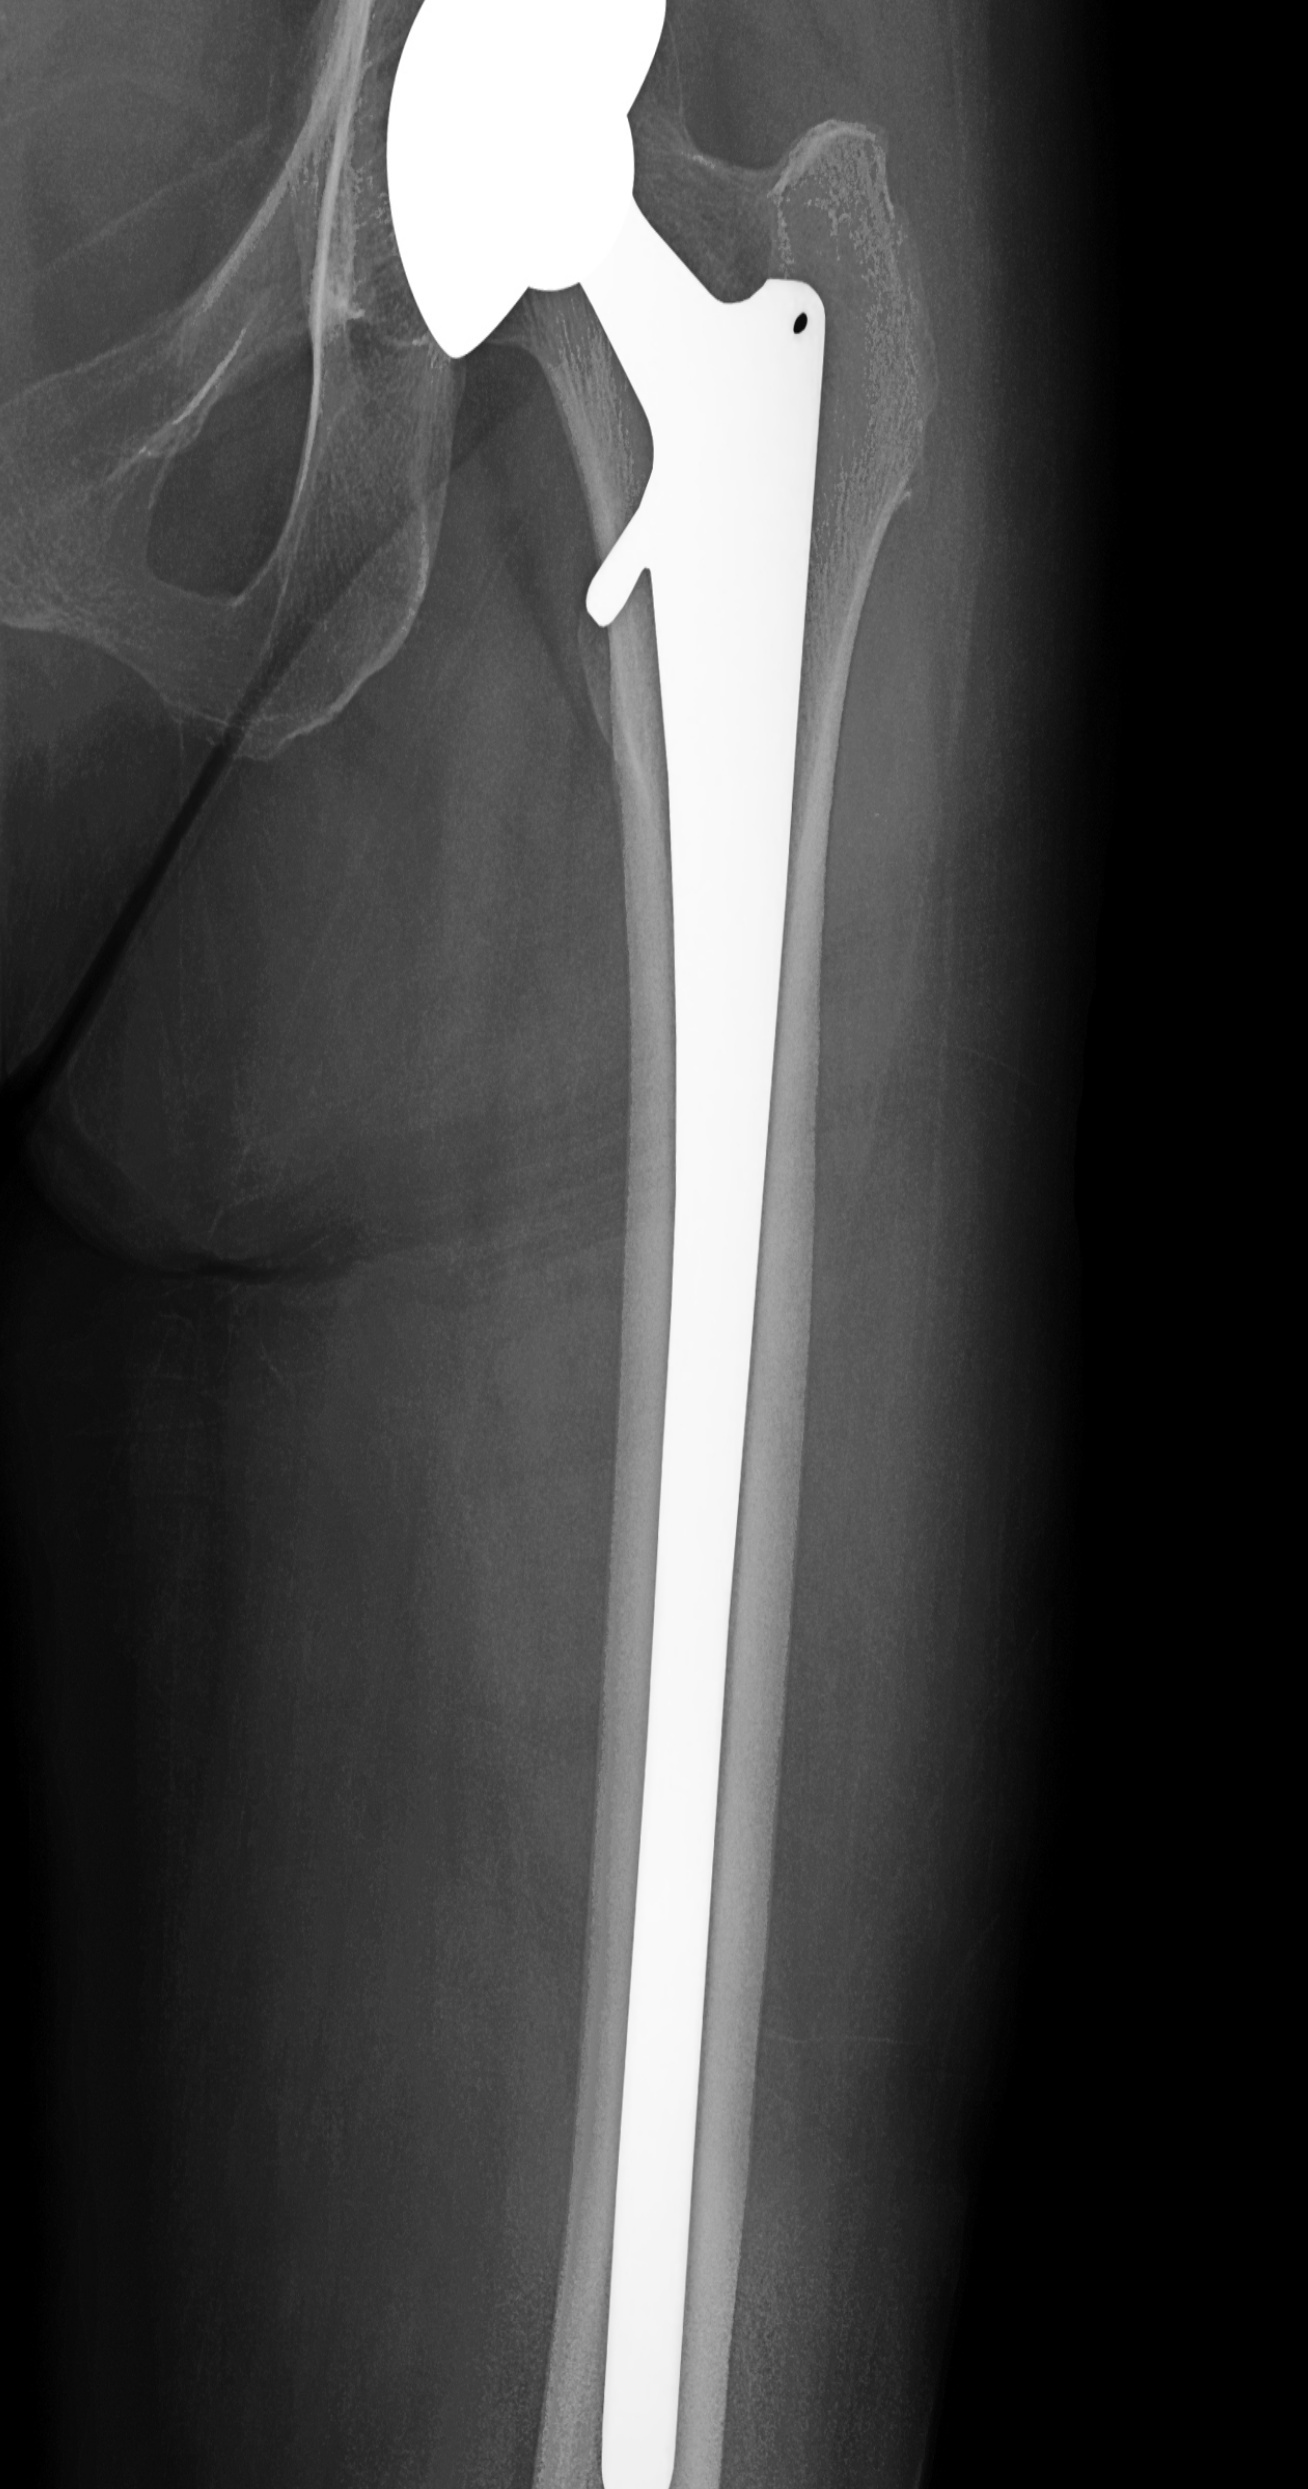Hip - Bias - Zimmer: (290, 3, 958, 2489)
